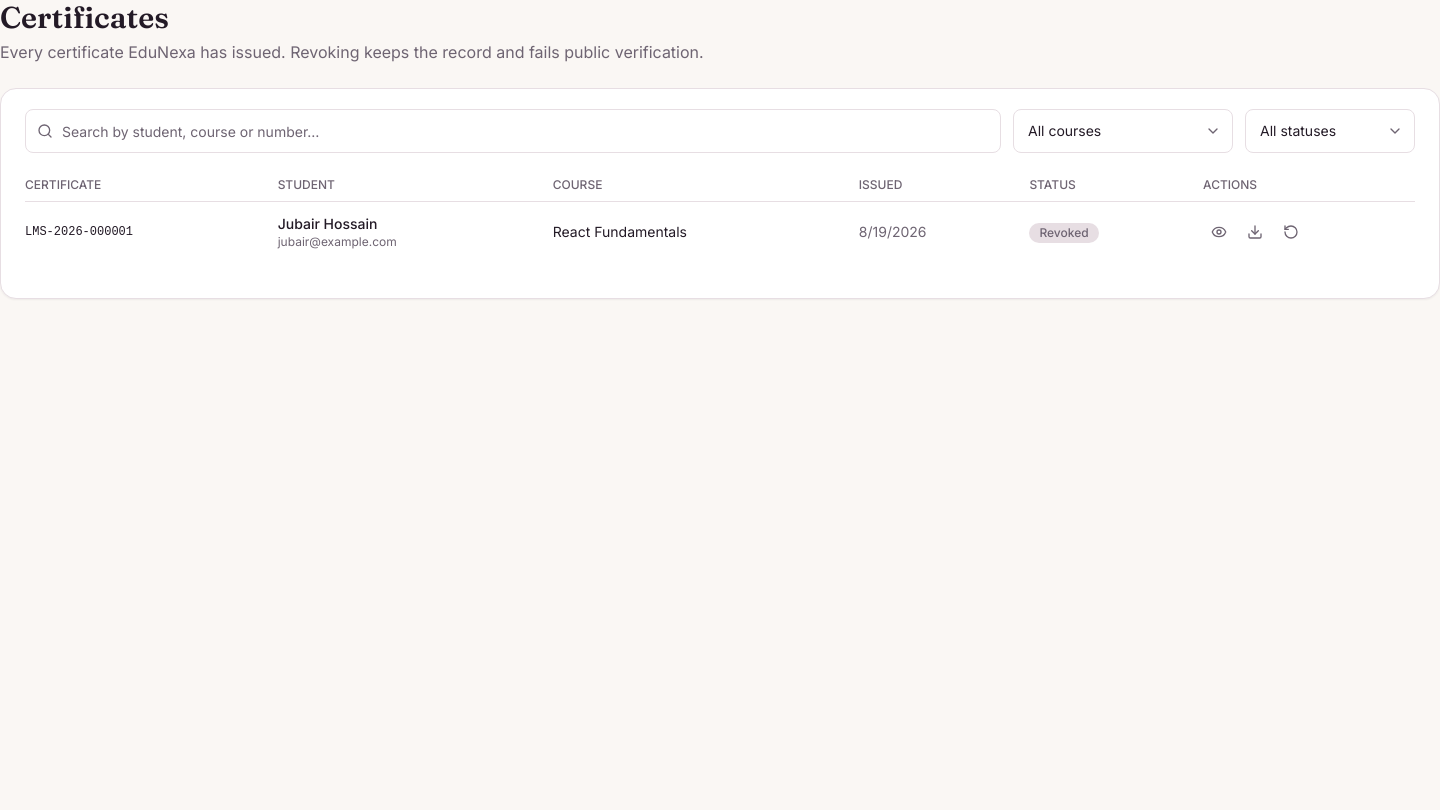
Test: AdminCertificatesPage › restores a revoked certificate
Click the button named "Restore LMS-2026-000001" at (1291, 232), box 1275,216 -> 1307,248
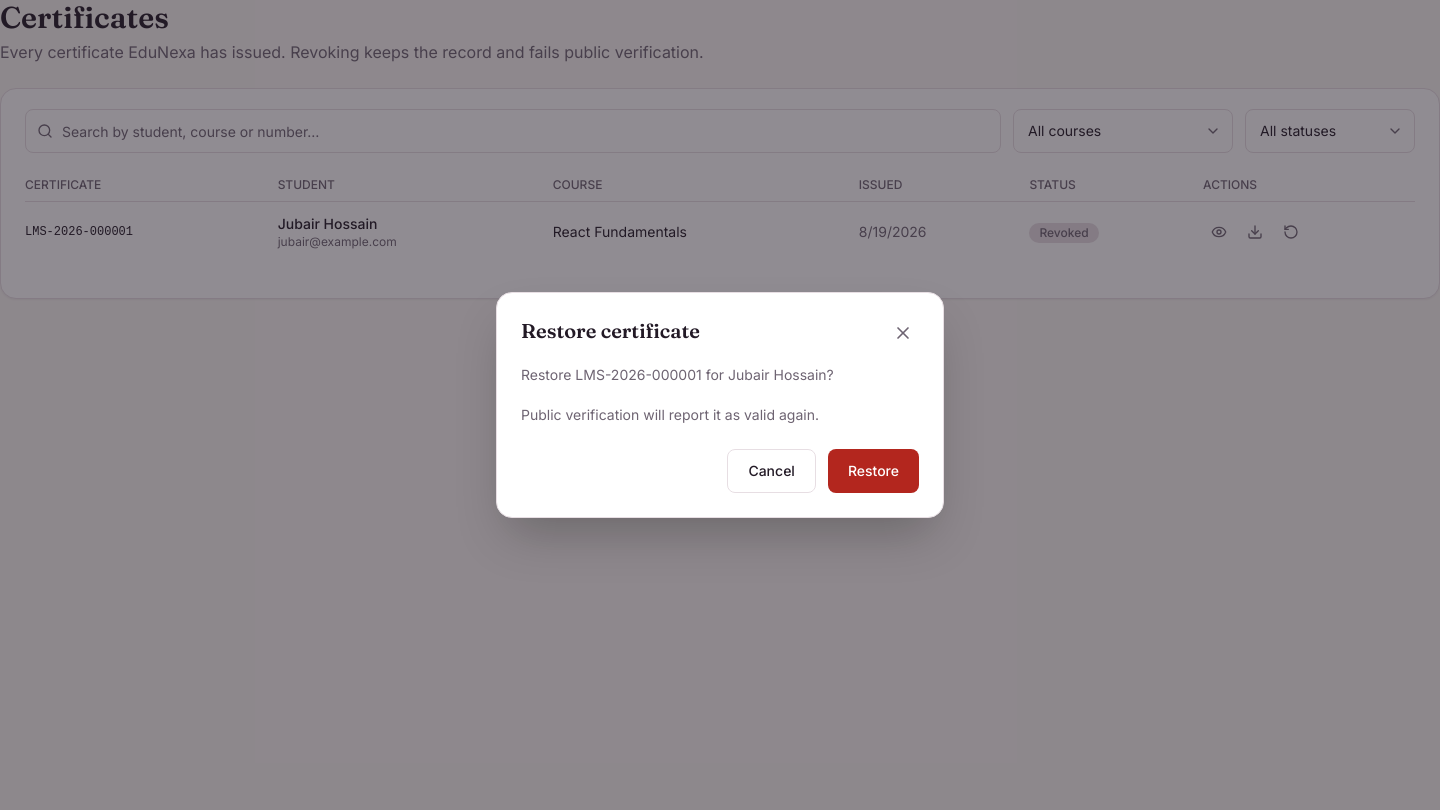
Click the button "Restore" at (873, 471), box 828,449 -> 919,493
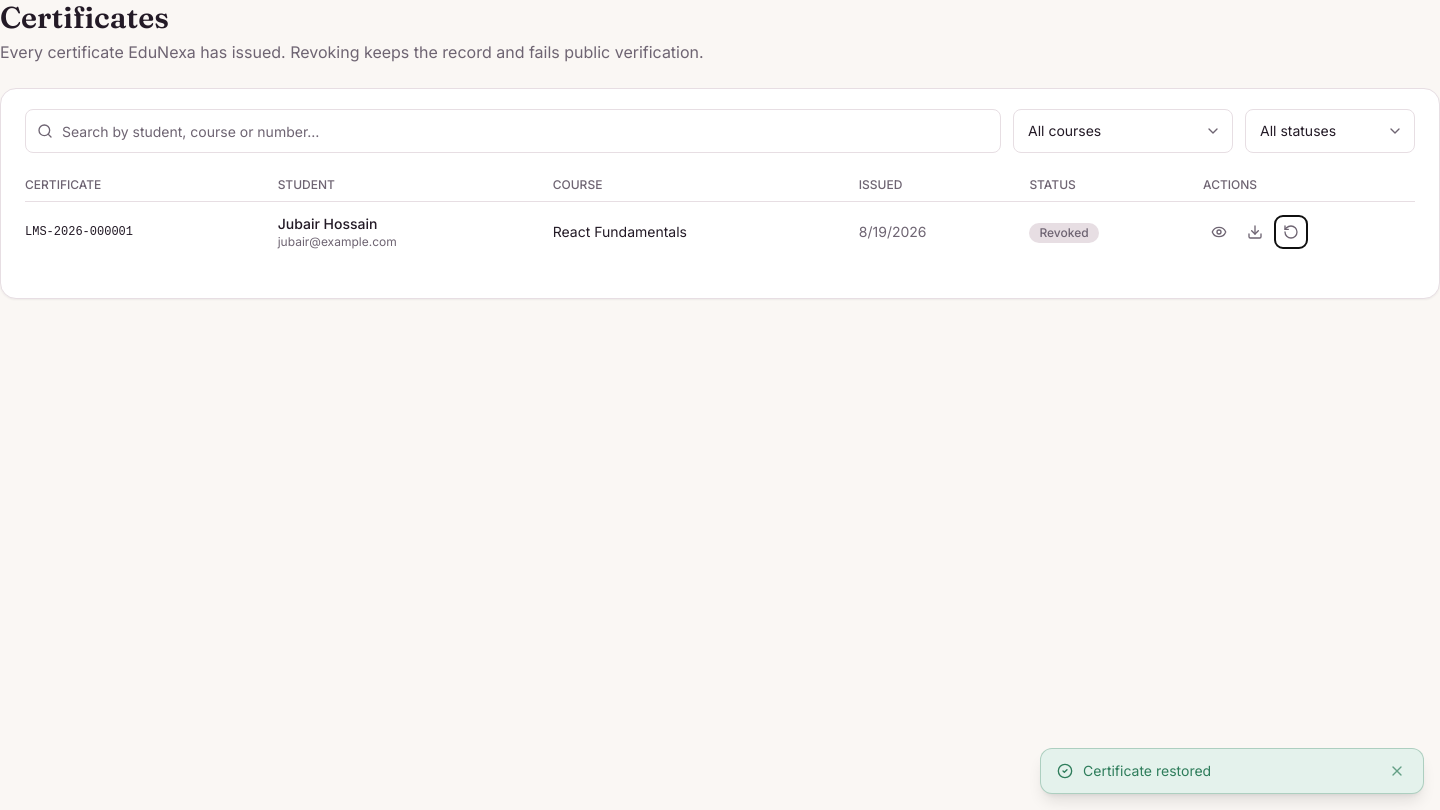
Now the text "Certificate restored" is shown, box 1083,762 -> 1211,779
